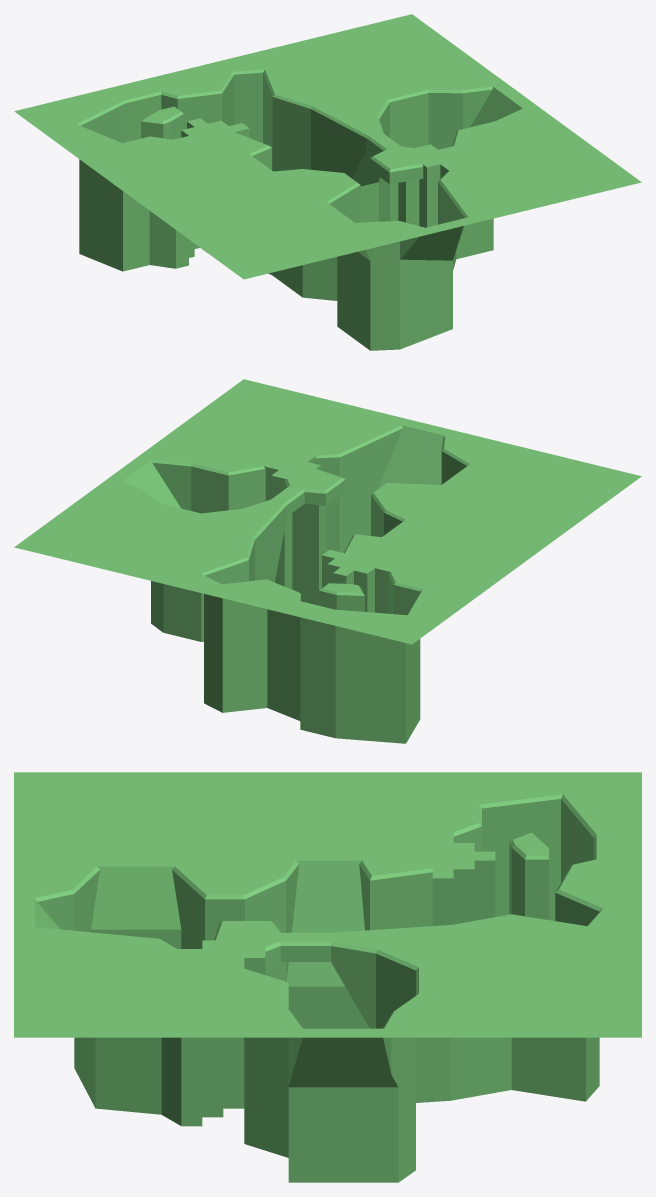
The model's file is x_oo_ground_44_Y2_1_rmstrd.fbx.
The picture shows the model from 3 angles, top to bottom: view 1: azimuth 30°, elevation 25°; view 2: azimuth 150°, elevation 25°; view 3: azimuth 270°, elevation 25°; orthographic projection. The views are drawn at different scales.
Parts seen in each view (by area): view 1: x_oo_ground_44_Y2_1_rmstrd1; view 2: x_oo_ground_44_Y2_1_rmstrd1; view 3: x_oo_ground_44_Y2_1_rmstrd1.
Part boxes in pixels (x1,y1,x2,y2): x_oo_ground_44_Y2_1_rmstrd1: (14,14,641,350); x_oo_ground_44_Y2_1_rmstrd1: (14,379,641,743); x_oo_ground_44_Y2_1_rmstrd1: (14,772,641,1182).
Size of the model in its own units: 30 by 9.34 by 30.
